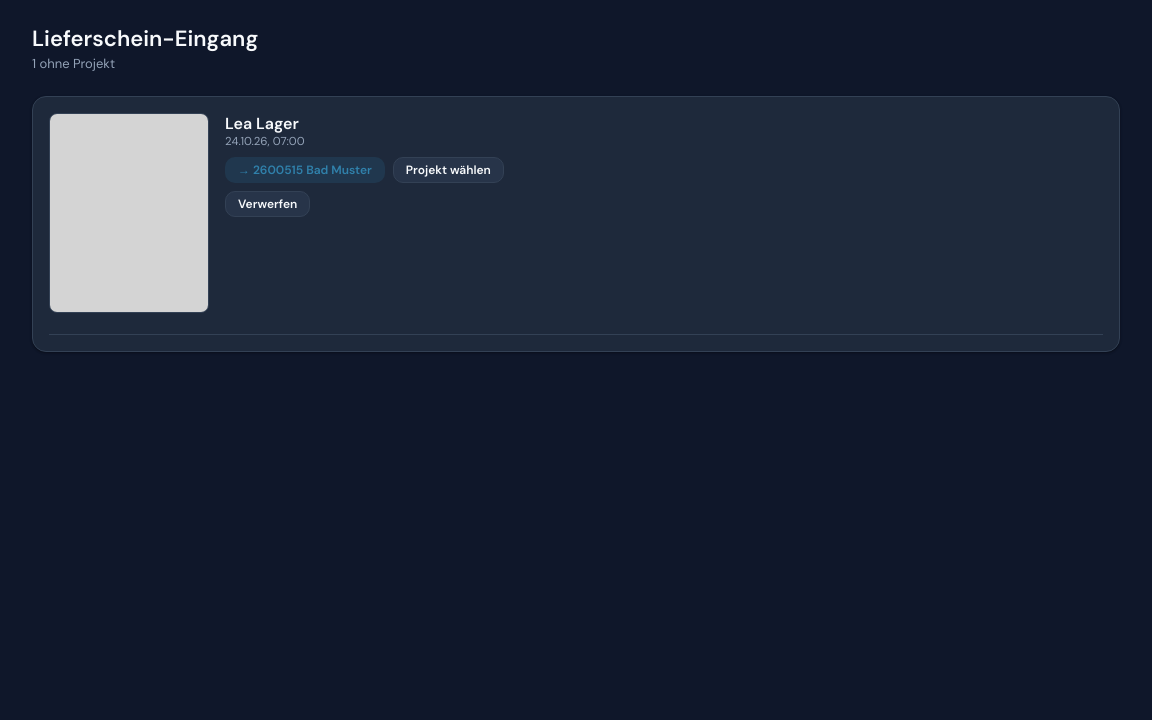
DeliveryNotesScreen › zeigt Bild, Fotograf und den Vorschlag — ein Klick legt ihn ab
The width and height of the screenshot is (1152, 720).
Expected: the text "Lea Lager" is shown, [225,113,299,134]
Click the button "→ 2600515 Bad Muster" at (305, 170), box [225,157,385,183]
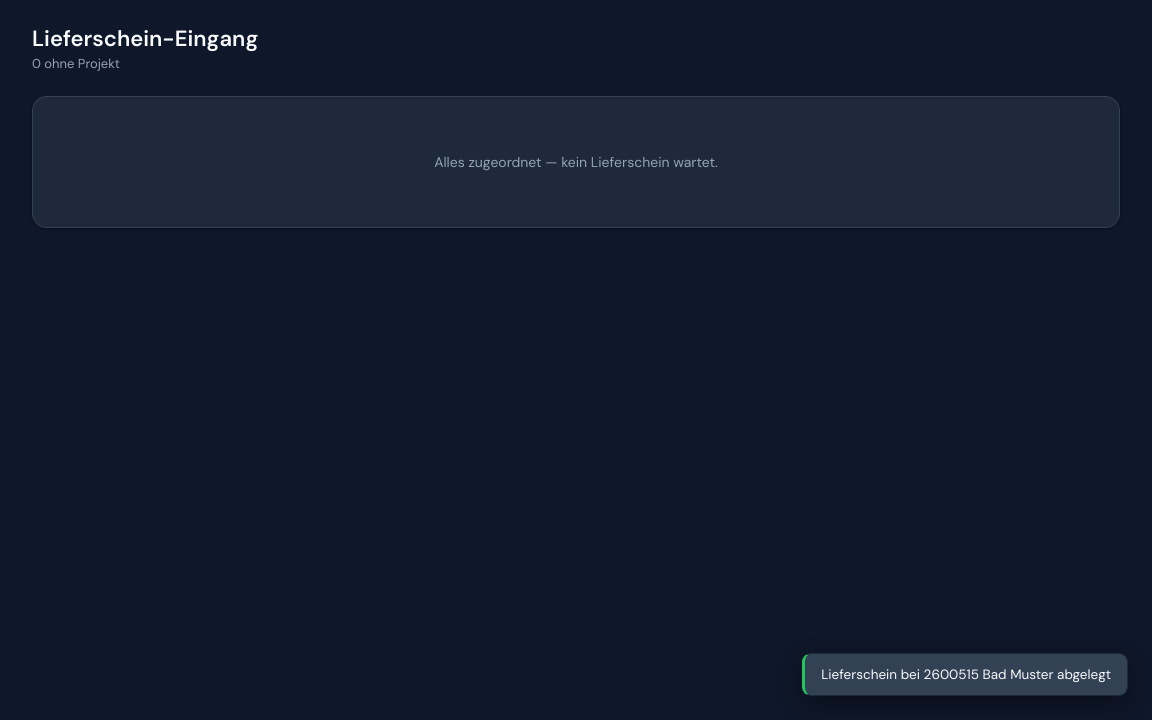
Expected: the text "Alles zugeordnet — kein Lieferschein wartet." is shown, [434,153,718,171]
